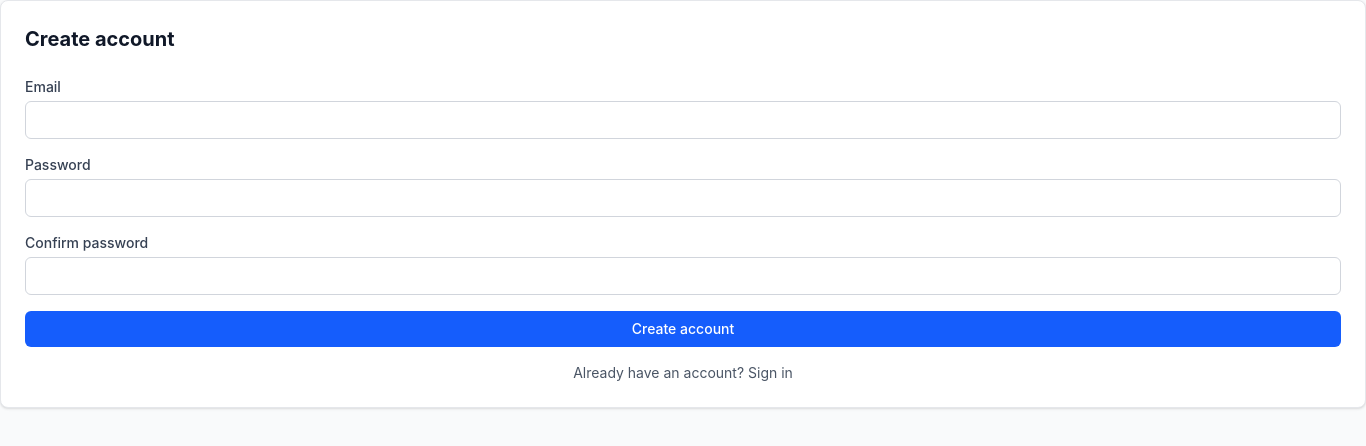
Test: RegisterPage › shows field error for invalid email
Type "not-an-email" into the field labelled "Email".
click(683, 120); type("not-an-email")  # box [25,101,1341,139]
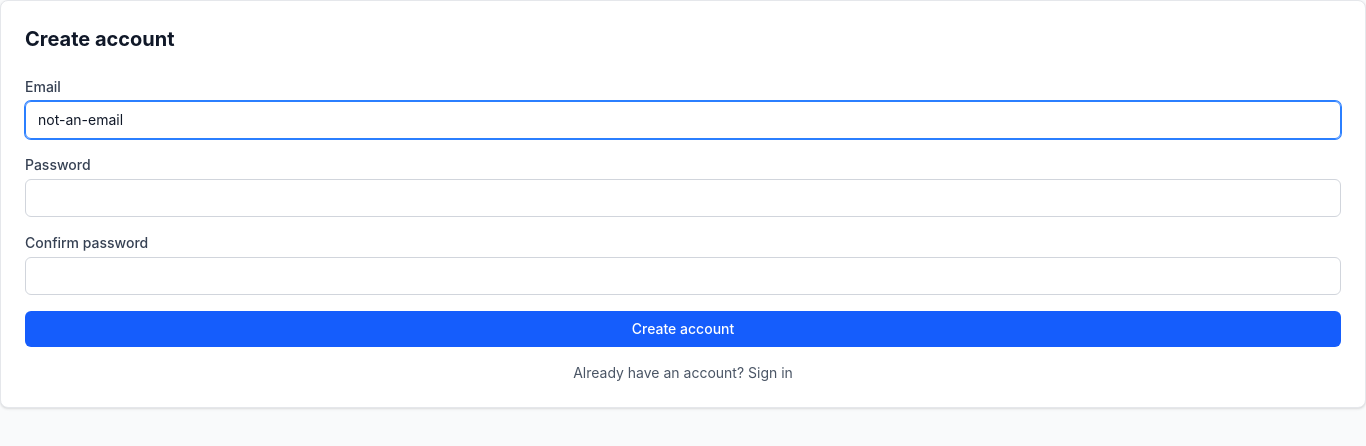
Type "password123" into the password field labelled "Password".
click(683, 198); type("password123")  # box [25,179,1341,217]
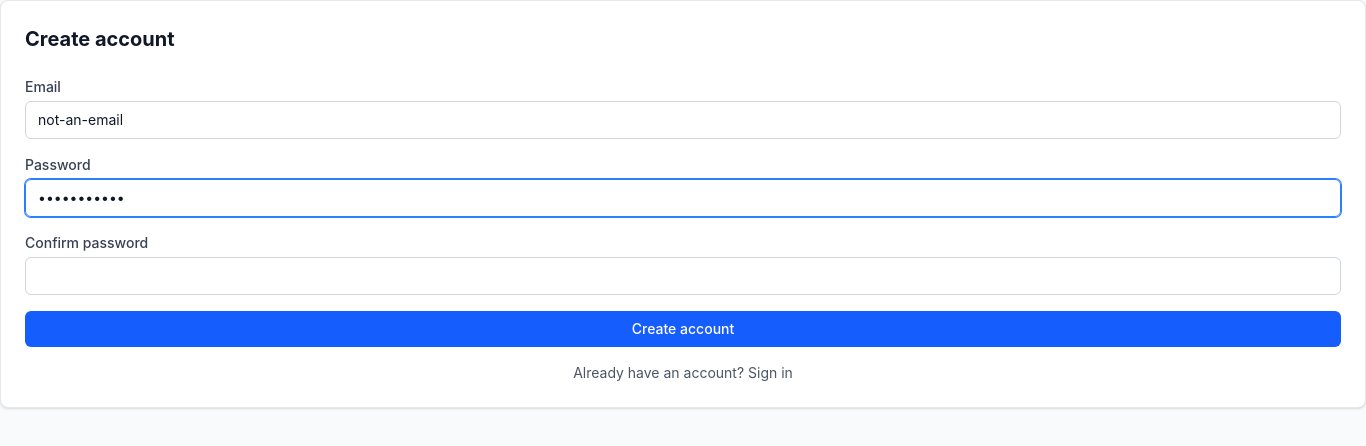
Type "password123" into the password field labelled "Confirm password".
click(683, 276); type("password123")  # box [25,257,1341,295]
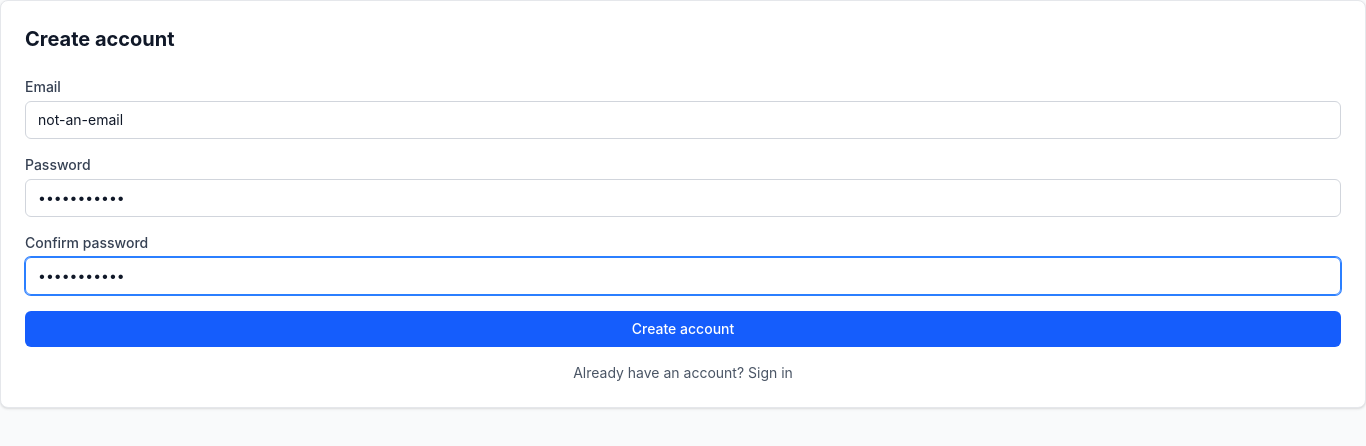
Click the button "Create account".
click(683, 329)  # box [25,311,1341,347]
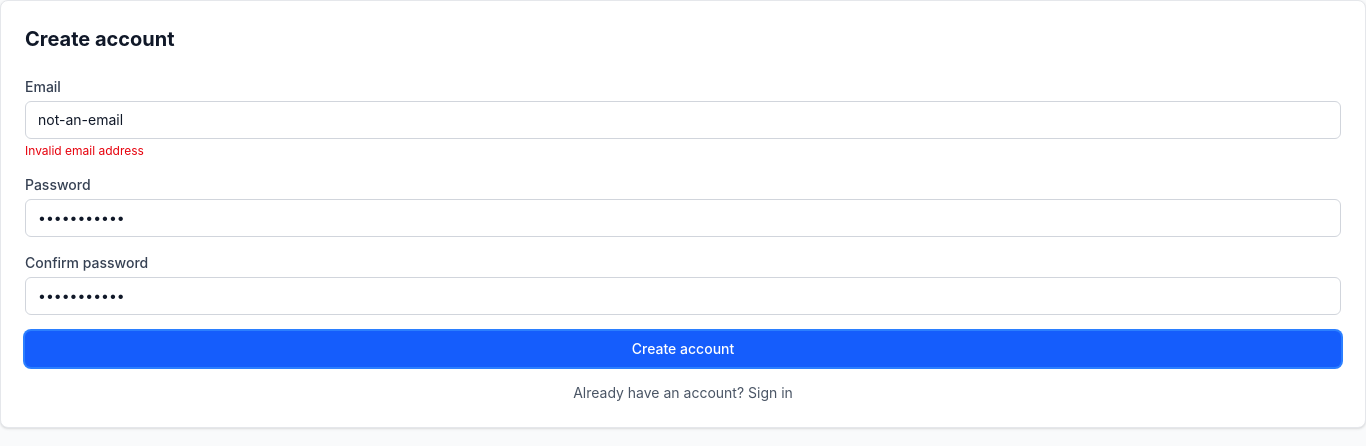
Check: the text "Invalid email address" is shown, box [25,143,144,158]
